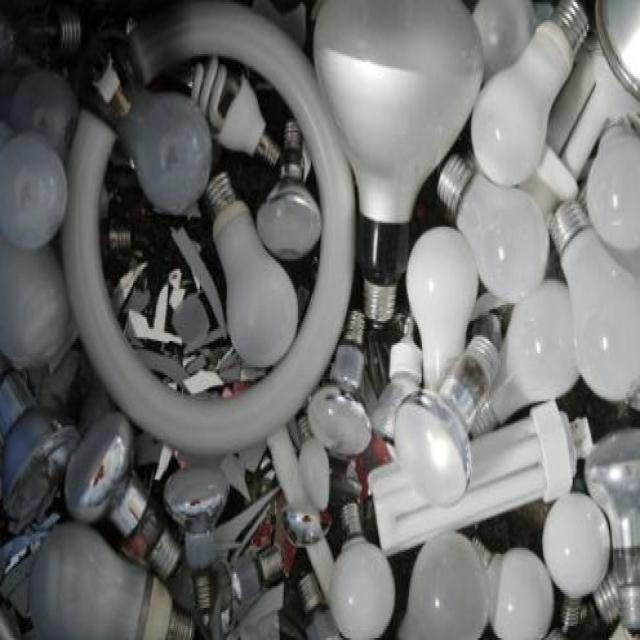electronic: (0, 0, 637, 638), (311, 0, 484, 223), (392, 331, 500, 506), (204, 169, 298, 367), (541, 489, 610, 598), (328, 534, 395, 638)
